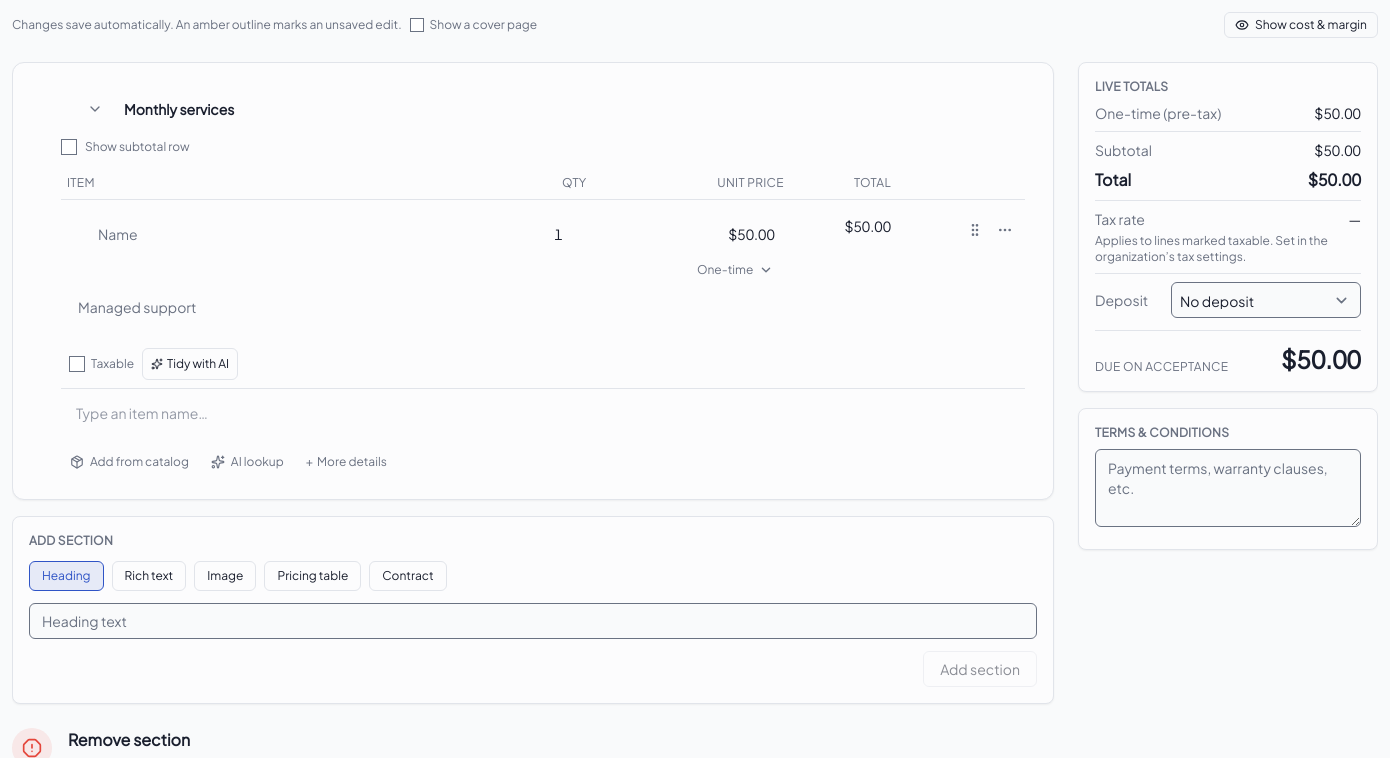
Scenario: QuoteEditor — internal band progressive disclosure › summary shows — for missing cost/profit and omits an unset SKU
Click the button with test id "quote-editor-toggle-internal": (1301, 25) [1224,12,1378,38]
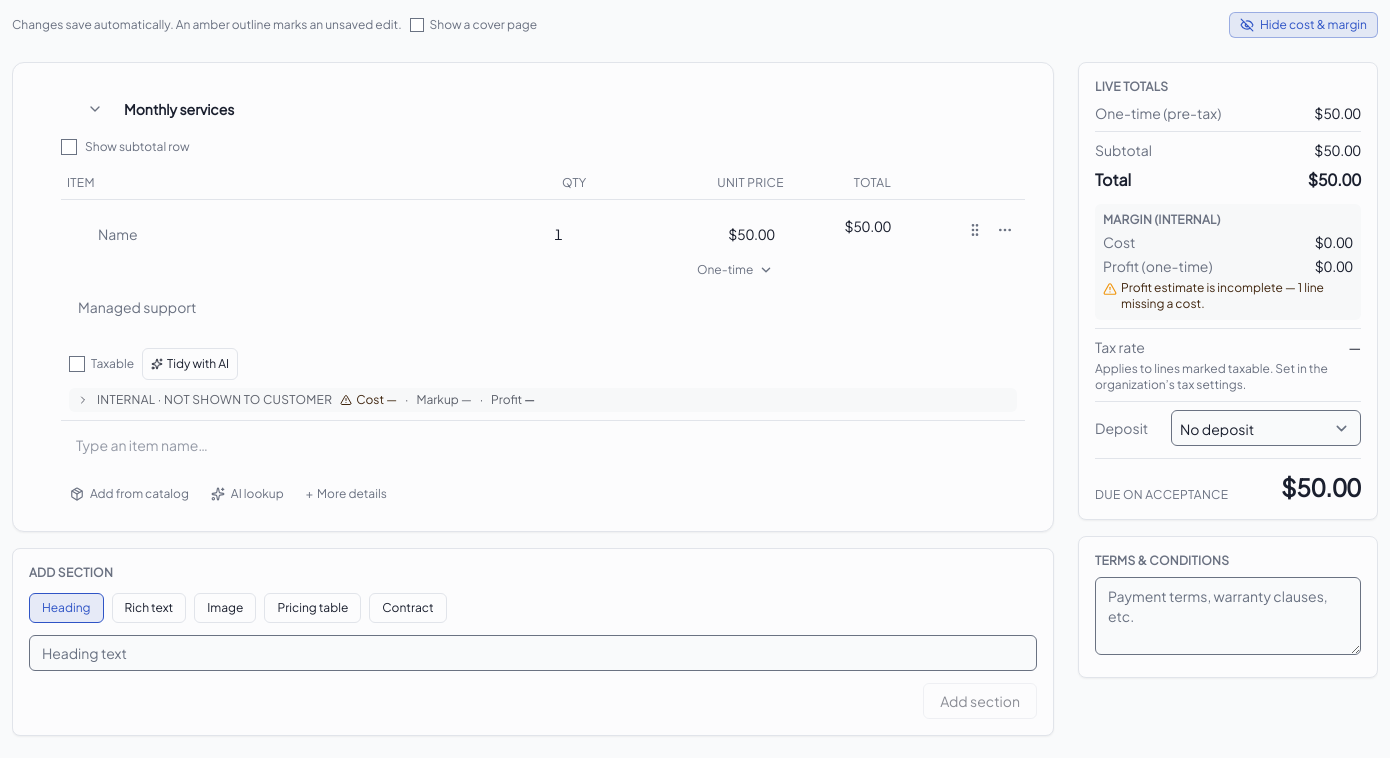
Expected: the element with test id "quote-line-internal-summary-line-1" does not show "SKU"
Expected: the element with test id "quote-line-internal-summary-line-1" shows "Cost —", [340,392,535,407]
Expected: the element with test id "quote-line-internal-summary-line-1" shows "Profit —", [340,392,535,407]
